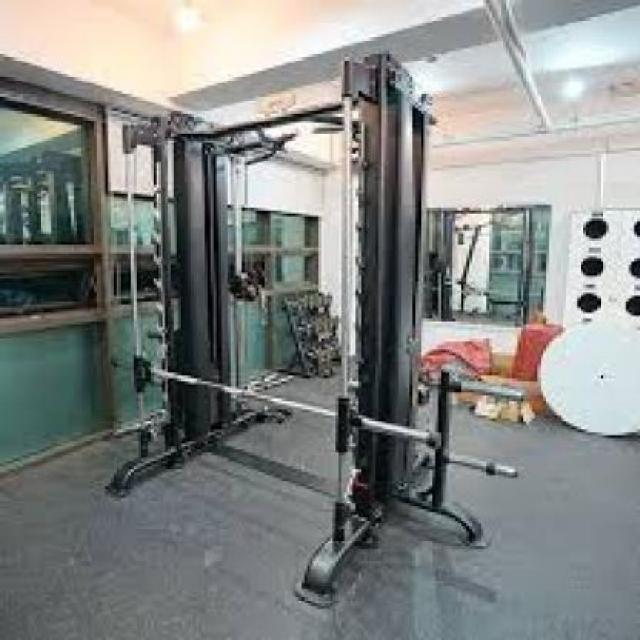smith machine: (123, 52, 526, 608)
